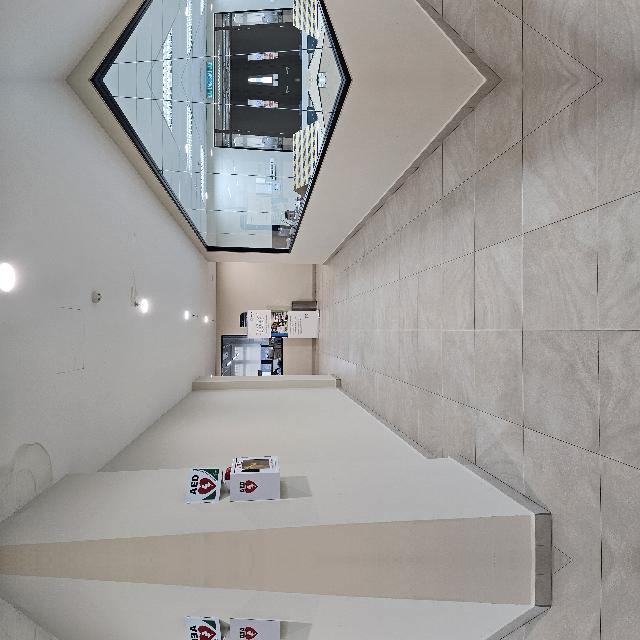obstacle: (56, 259, 106, 359)
